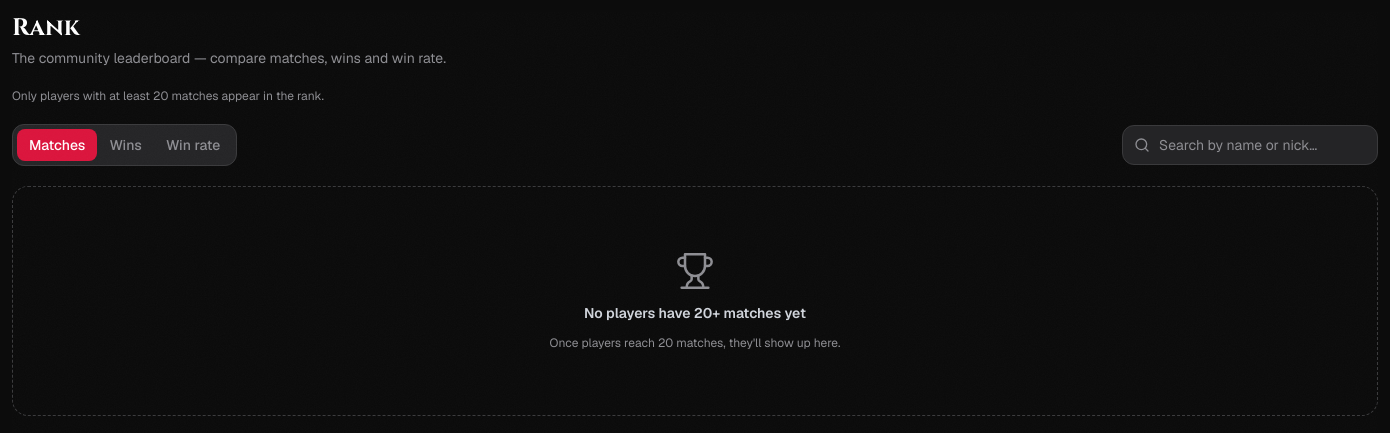
Test: RankTabTemplate › shows a search-specific empty state when a search returns nothing
Type "zzz" into the field named "search rank" at (1250, 145), box [1122,125,1378,165]
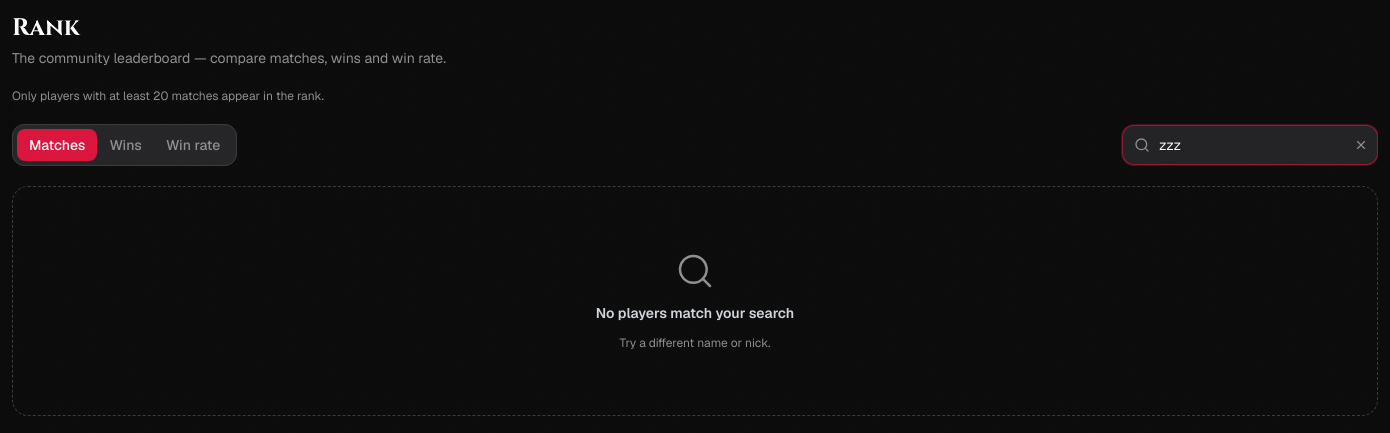
Expected: the text "No players match your search" is shown, [596,303,794,323]
